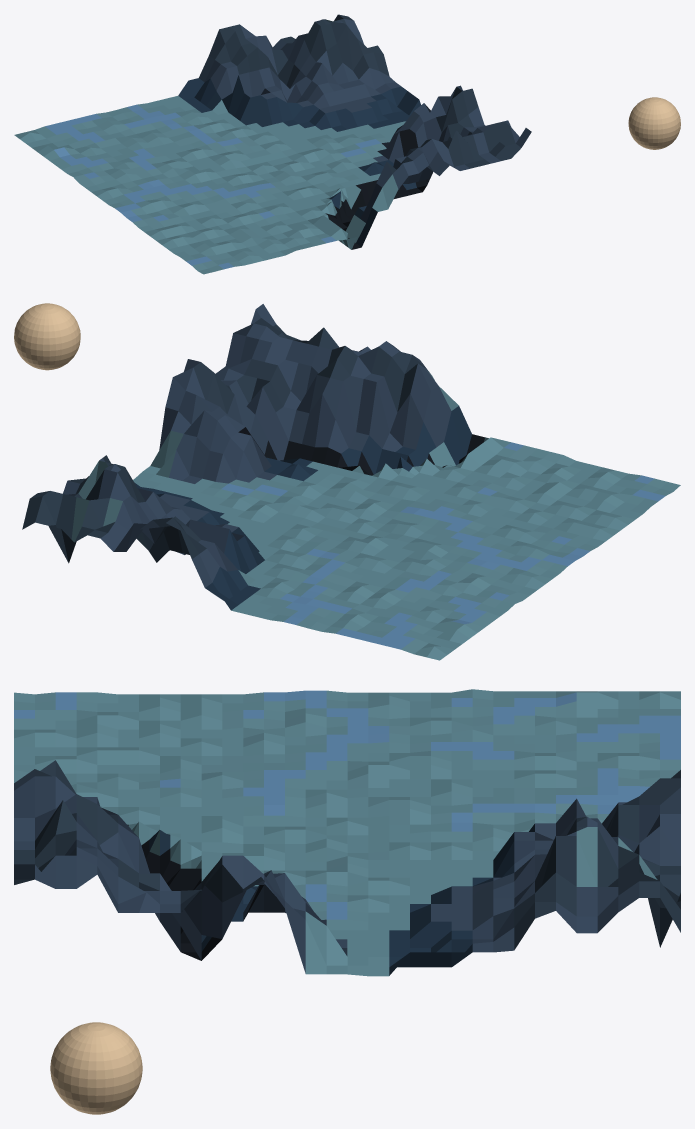
Rendered from ExportedBlenderFBXFile.fbx.
The picture shows the model from 3 angles, top to bottom: view 1: azimuth 30°, elevation 25°; view 2: azimuth 150°, elevation 25°; view 3: azimuth 270°, elevation 25°; orthographic projection. The views are drawn at different scales.
Parts seen in each view (by area): view 1: Plane, Sphere; view 2: Plane, Sphere; view 3: Plane, Sphere.
Part boxes in pixels (x1,y1,x2,y2): Plane: [14, 14, 531, 274]; Sphere: [628, 97, 680, 149]; Plane: [22, 304, 680, 660]; Sphere: [14, 303, 80, 370]; Plane: [14, 689, 680, 976]; Sphere: [50, 1022, 142, 1114].
Bounding box in the file's own units: 26.01 × 4.33 × 17.17.
